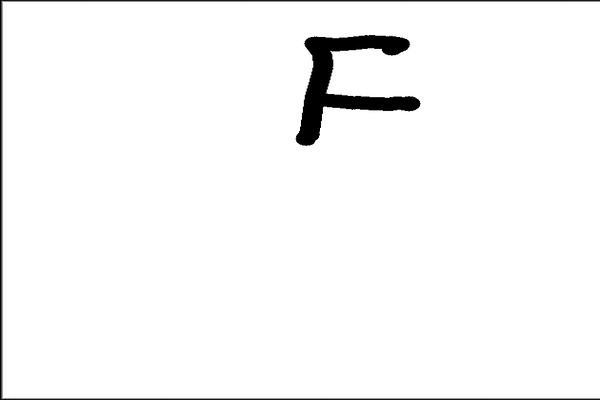F: (290, 30, 425, 148)
